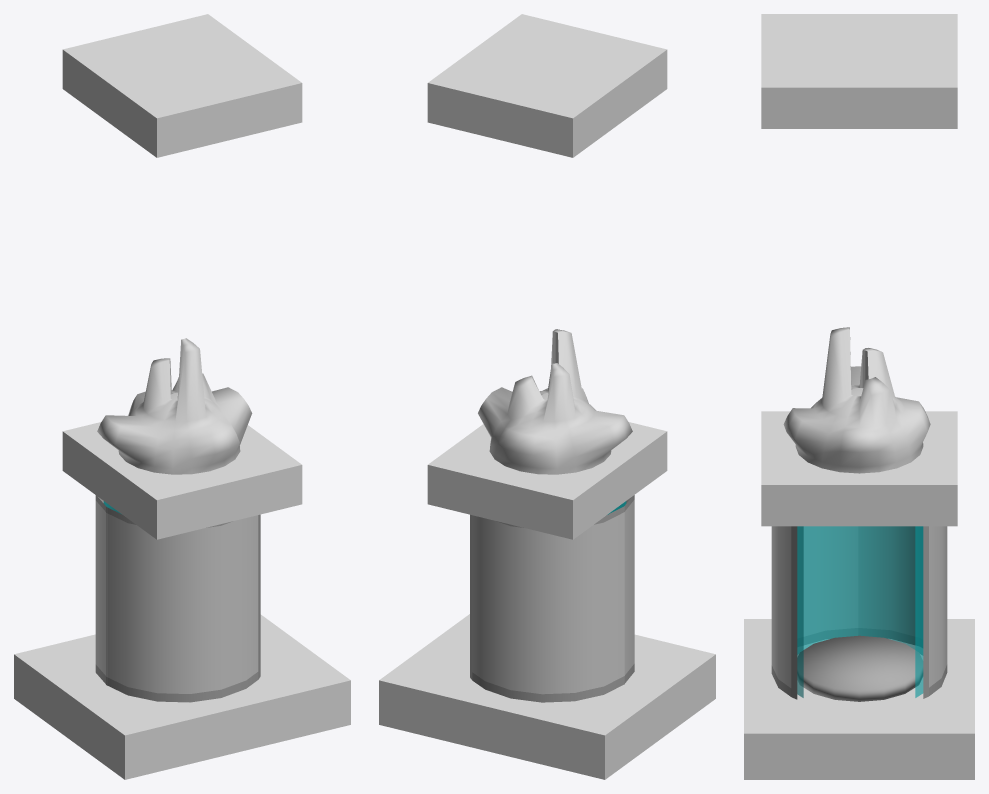
Rendered from at_pod.fbx.
The picture shows the model from 3 angles, left to right: view 1: azimuth 30°, elevation 25°; view 2: azimuth 150°, elevation 25°; view 3: azimuth 270°, elevation 25°; orthographic projection. The views are drawn at different scales.
Visible parts, largest first — view 1: polySurface1, Right_door, Left_Door; view 2: polySurface1, Left_Door, Right_door; view 3: polySurface1, Left_Door, Right_door, pCylinder3.
Boxes of the visible parts, x1,y1,x2,y2 form: polySurface1: [14, 14, 350, 779]; Right_door: [106, 507, 260, 702]; Left_Door: [95, 495, 115, 685]; polySurface1: [379, 14, 715, 779]; Left_Door: [470, 506, 624, 702]; Right_door: [614, 495, 634, 684]; polySurface1: [744, 14, 974, 779]; Left_Door: [858, 526, 947, 698]; Right_door: [771, 526, 857, 699]; pCylinder3: [797, 635, 922, 701].
Size of the model in its own units: 10.3 by 28.1 by 8.75.
